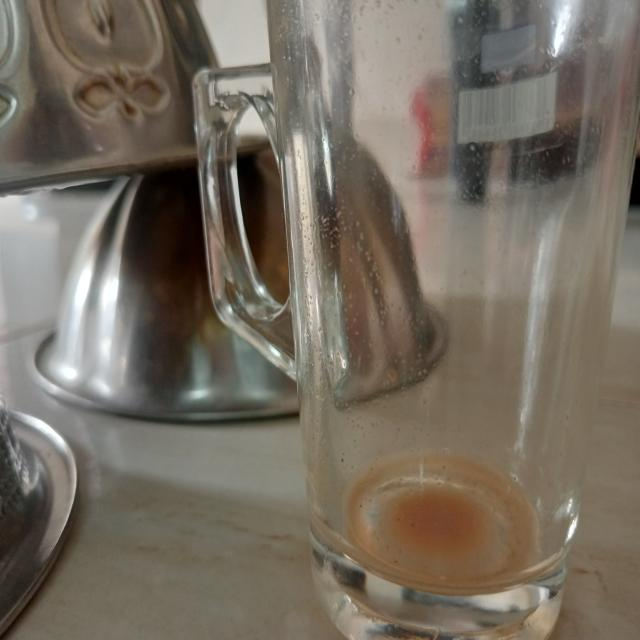glass-VX4N: (192, 0, 640, 640)
